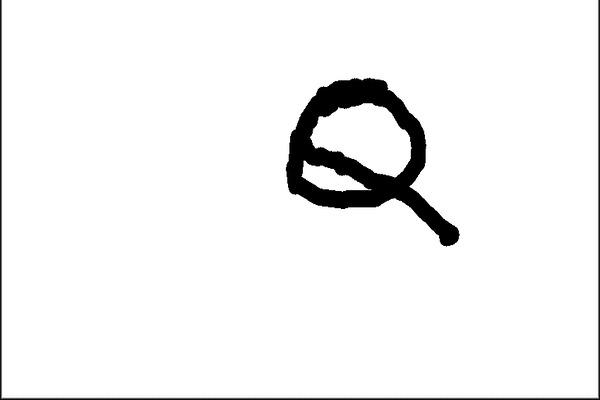Q: (275, 70, 456, 251)
